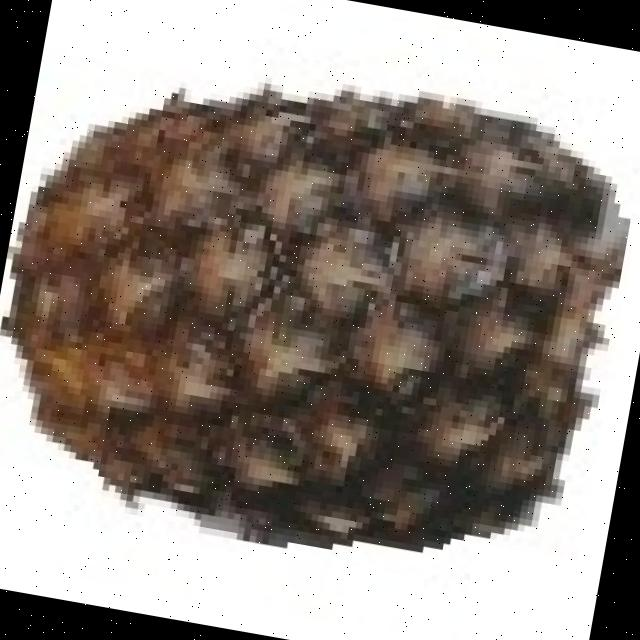pineapple: (2, 82, 618, 532)
